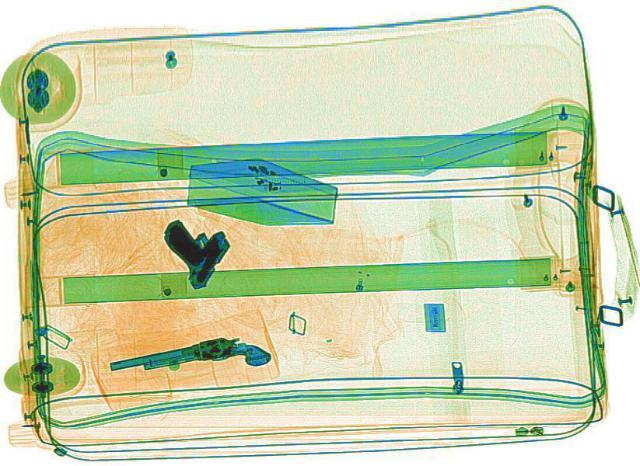Gun: (106, 329, 272, 390), (132, 213, 242, 287)
